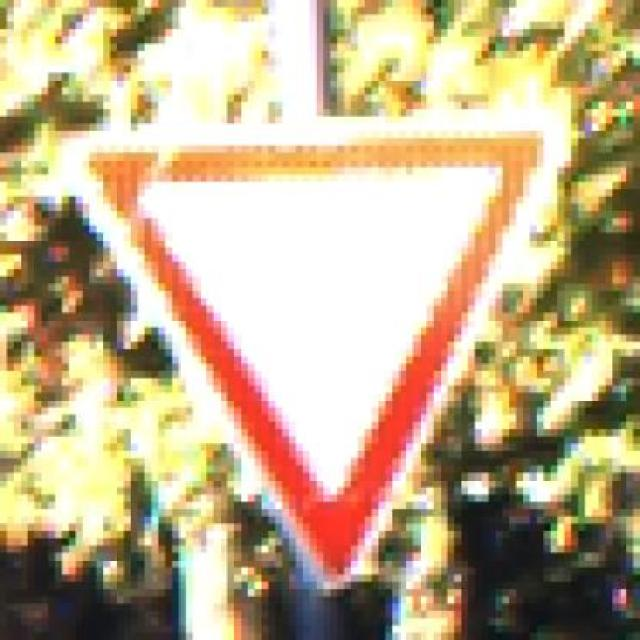Give Way: (48, 101, 537, 582)
